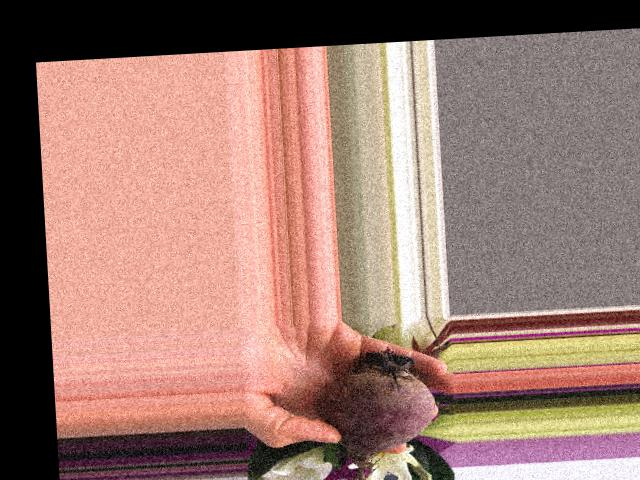beet: (319, 344, 440, 480)
